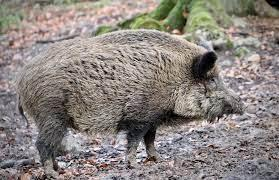Hog: (14, 27, 245, 176)
